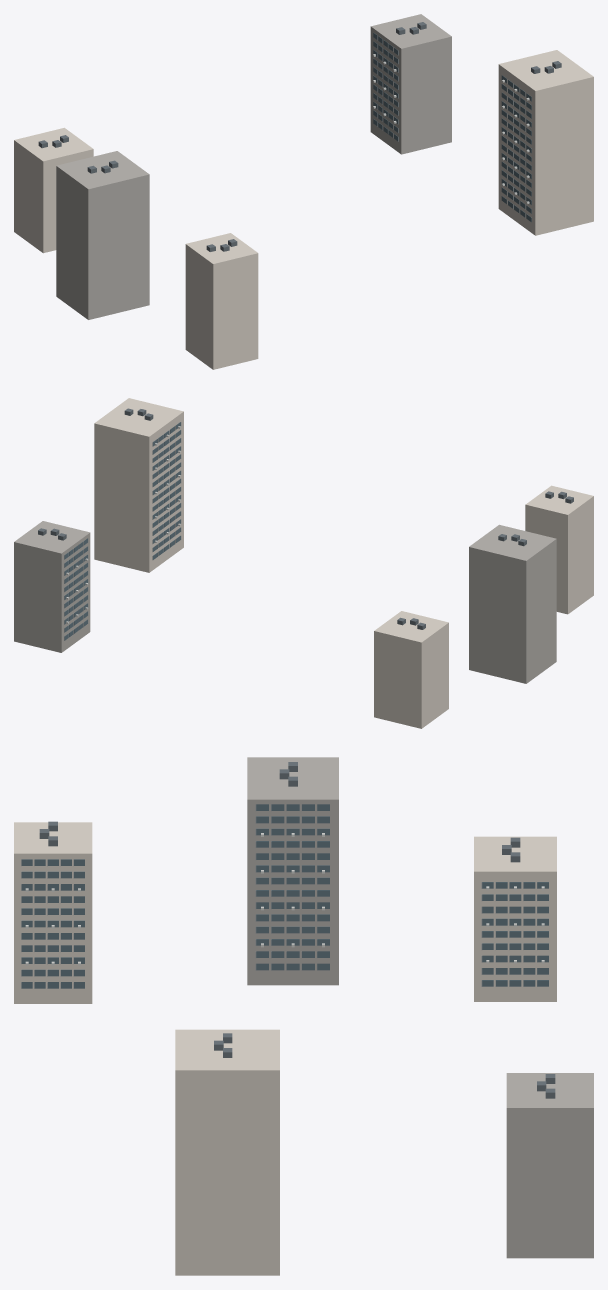
File: farmgate-buildings.gltf
3 views of the same model, one above another, from view 1: azimuth 30°, elevation 25°; view 2: azimuth 150°, elevation 25°; view 3: azimuth 270°, elevation 25° (orthographic). The views are drawn at different scales.
Parts seen in each view (by area): view 1: farmgate-buildings; view 2: farmgate-buildings; view 3: farmgate-buildings.
Boxes of the visible parts, left/top/right/bottom form: farmgate-buildings: left=14, top=14, right=593, bottom=369; farmgate-buildings: left=14, top=398, right=593, bottom=728; farmgate-buildings: left=14, top=757, right=593, bottom=1275.
Size of the model in its own units: 180 by 53.8 by 133.
